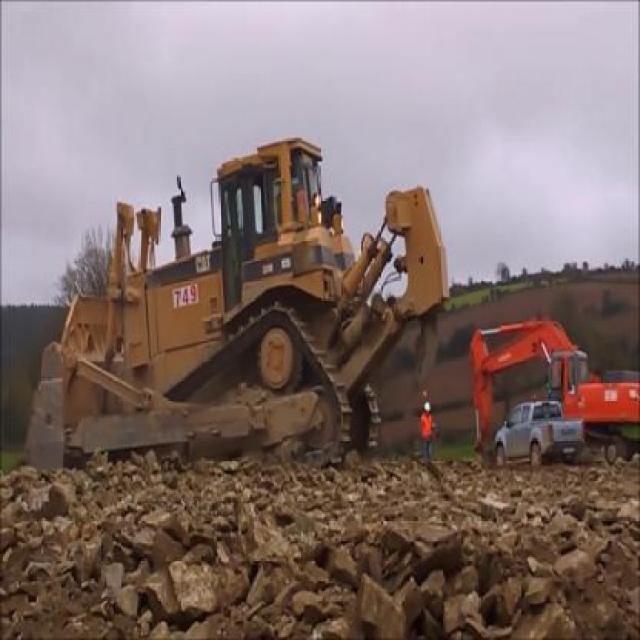Excavator: (469, 316, 640, 458)
